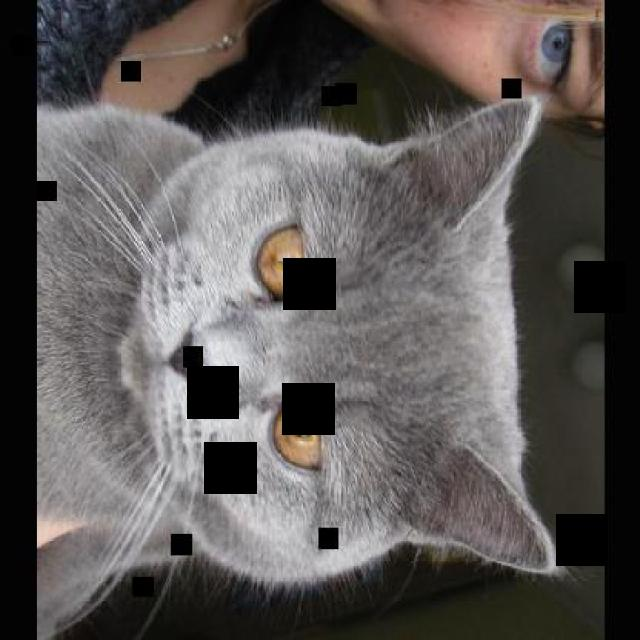unauthorized: (36, 86, 578, 639)
